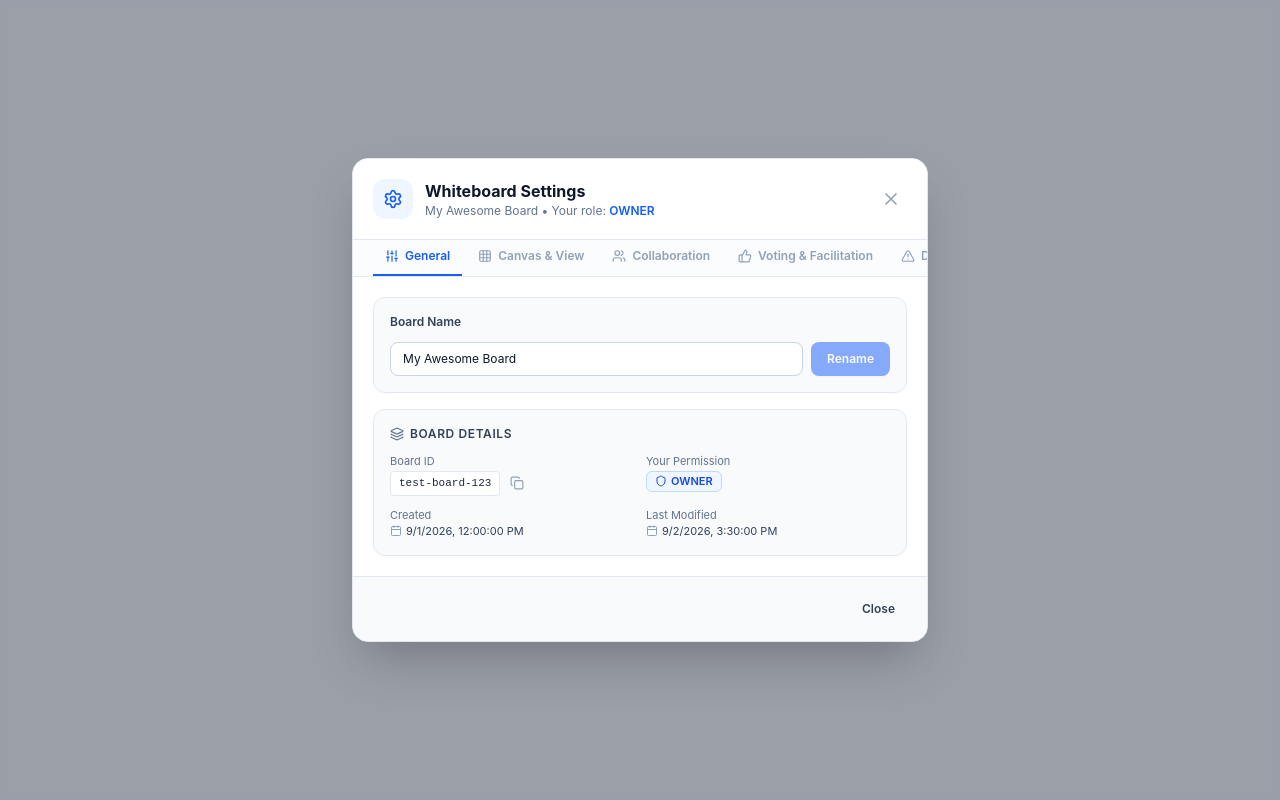
Test: WhiteboardConfigModal › allows owner/admin to rename board and shows success feedback
Replace the text in the field showing "My Awesome Board" with "Renamed Board" at (597, 359), box [390,342,803,376]
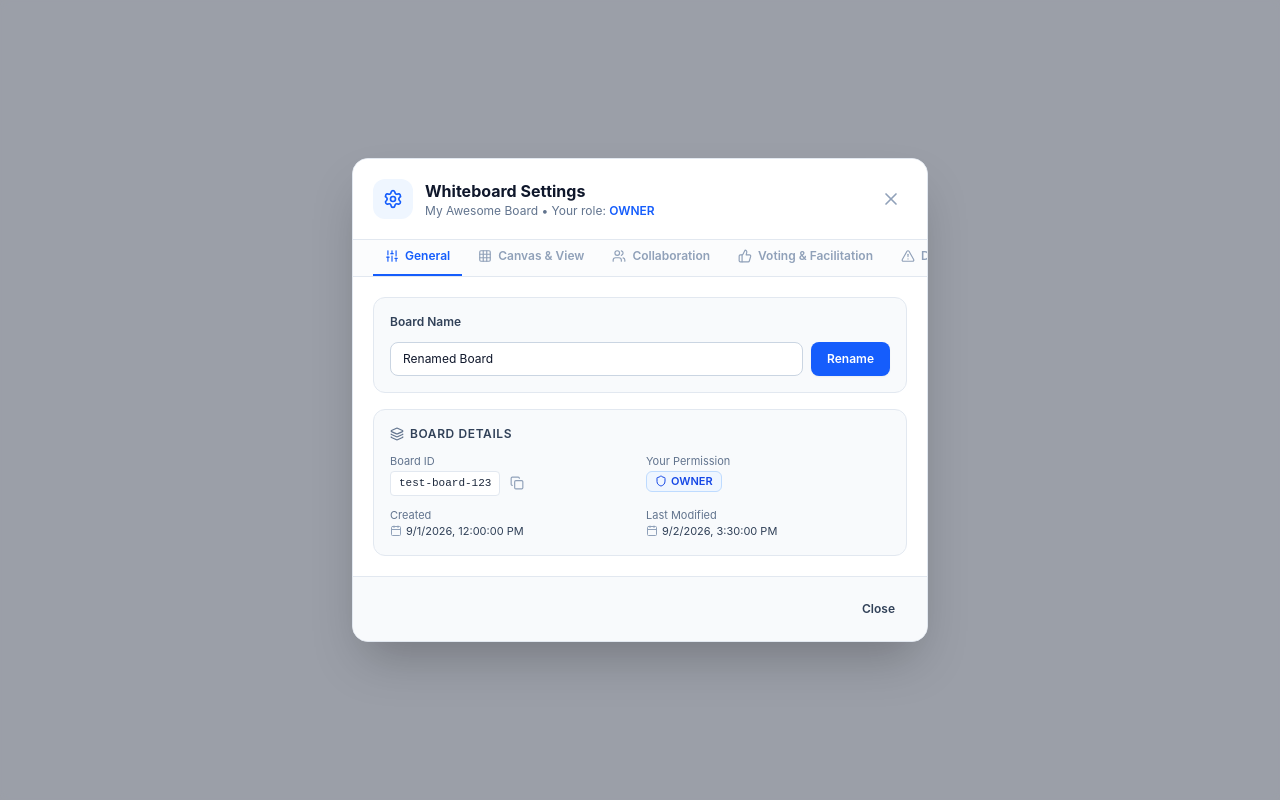
Click the button "Rename" at (851, 359), box [811,342,890,376]
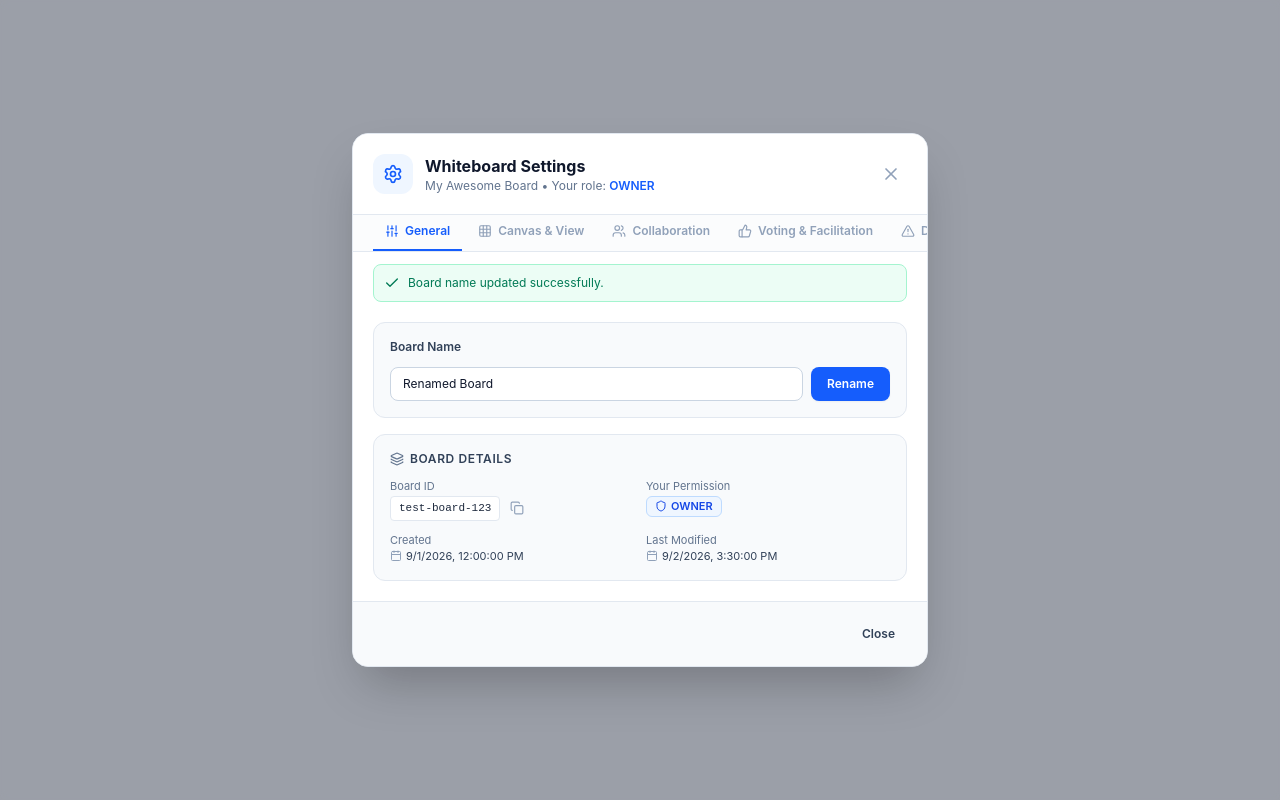
Check: the text "Board name updated successfully." is shown, box [408,275,604,291]
